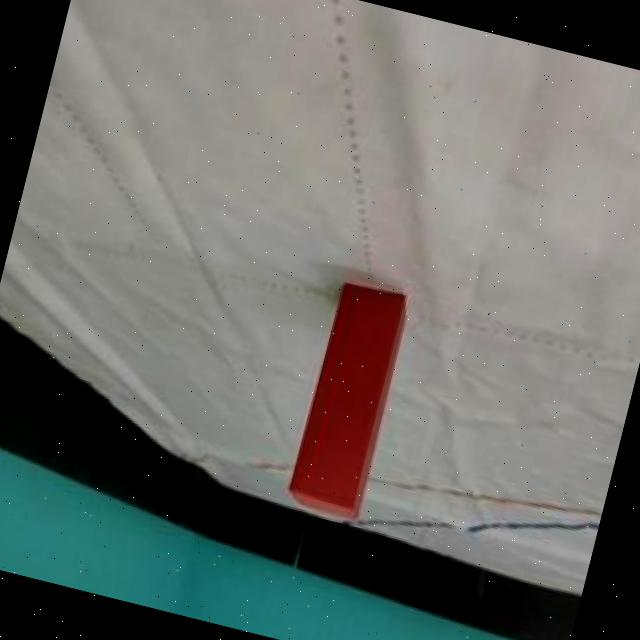redbox: (284, 278, 412, 519)
